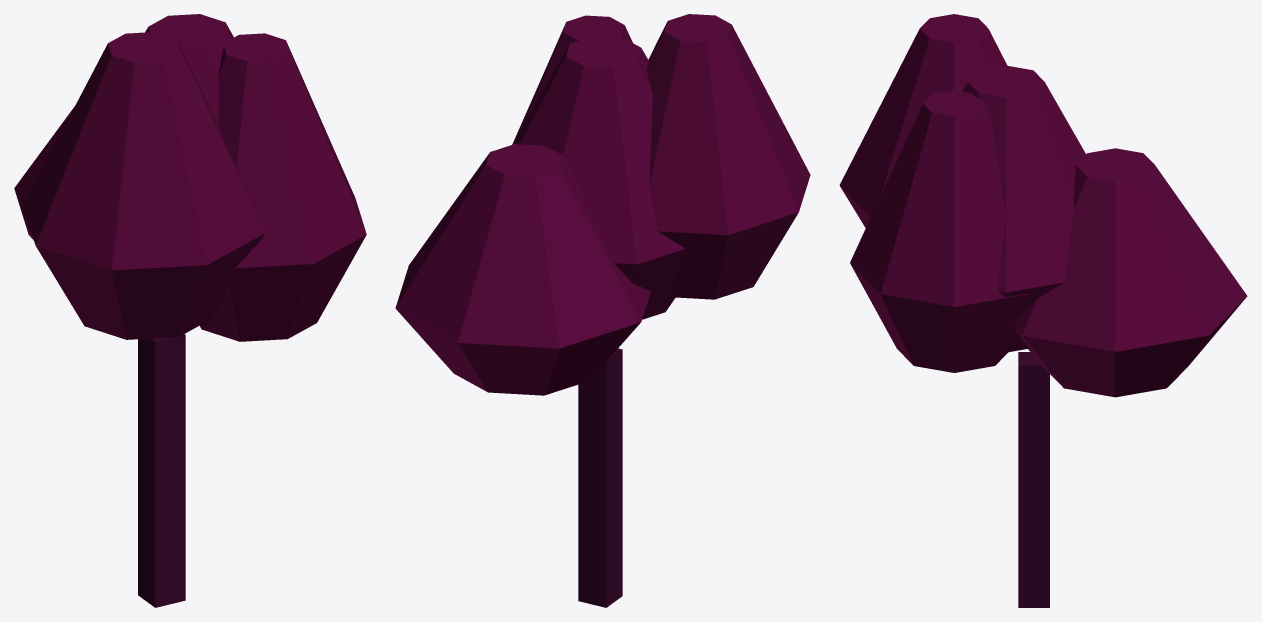
File: tree_a.glb
The picture shows the model from 3 angles, left to right: view 1: azimuth 30°, elevation 25°; view 2: azimuth 150°, elevation 25°; view 3: azimuth 270°, elevation 25°; orthographic projection. The views are drawn at different scales.
Parts seen in each view (by area): view 1: tree_a; view 2: tree_a; view 3: tree_a.
Part boxes in pixels (box(x1,y1,x2,y2)): tree_a: box(14, 14, 366, 607); tree_a: box(395, 14, 810, 607); tree_a: box(839, 14, 1247, 607).
Size of the model in its own units: 3.86 by 6.63 by 4.5.
